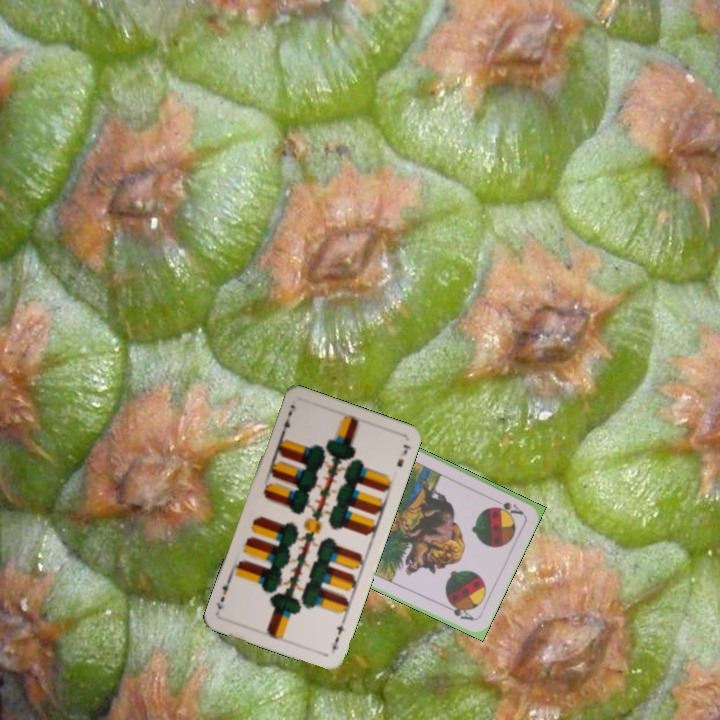E7: (327, 621, 348, 652), (276, 406, 295, 439)
SA: (487, 494, 526, 517)
